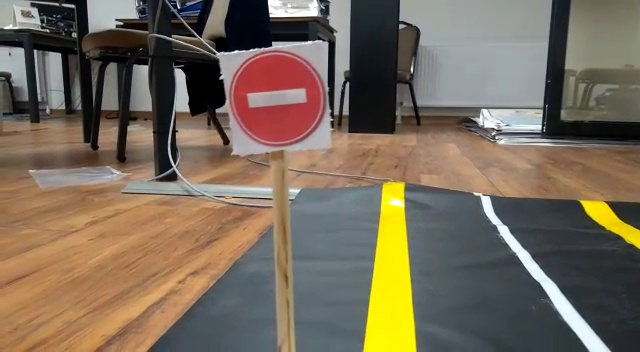girisi_olmayan_yol: (224, 50, 326, 146)
